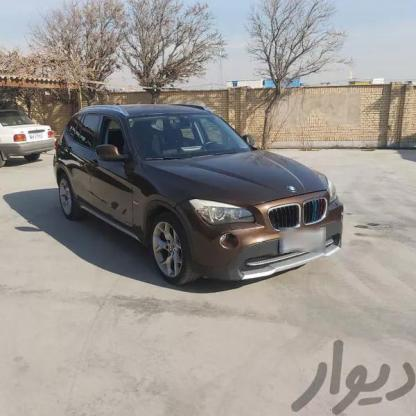Car: (50, 104, 347, 294), (0, 109, 56, 168)
